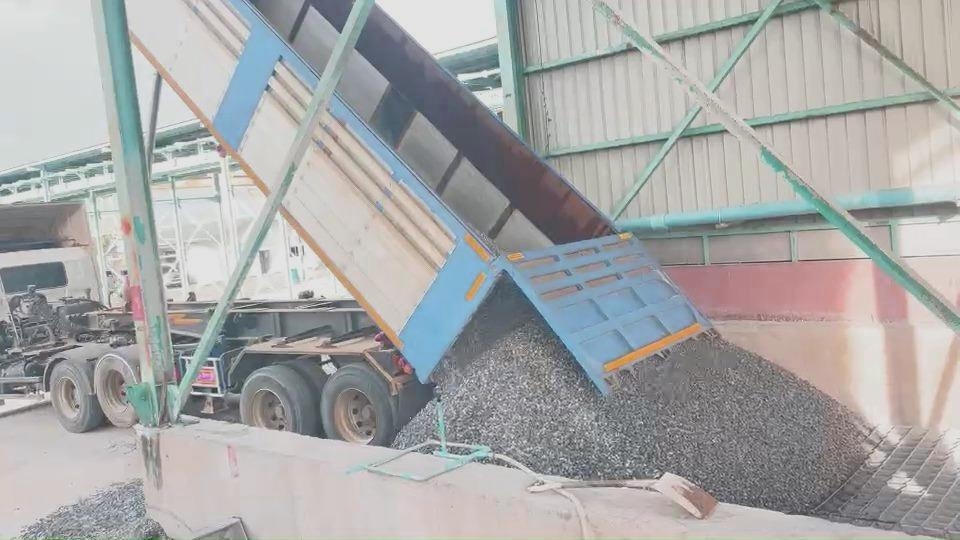gravel: (434, 287, 870, 511), (21, 480, 166, 537), (395, 404, 435, 445)
